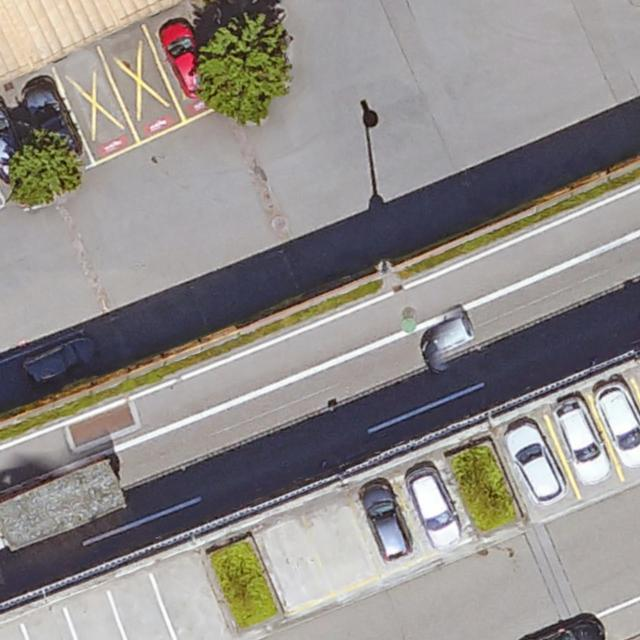tree: (197, 17, 292, 122), (5, 133, 84, 205)
